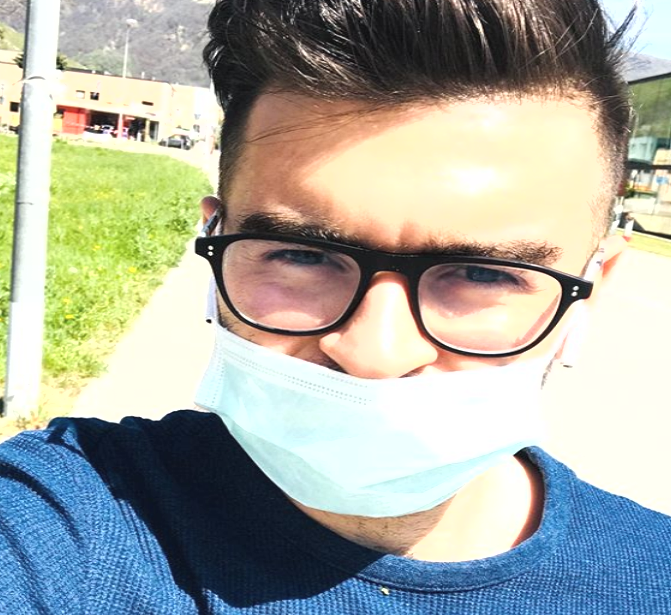mask_weared_incorrect: (188, 43, 640, 525)
